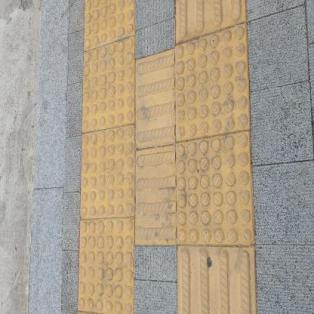Podoctatil: (72, 0, 263, 313)
